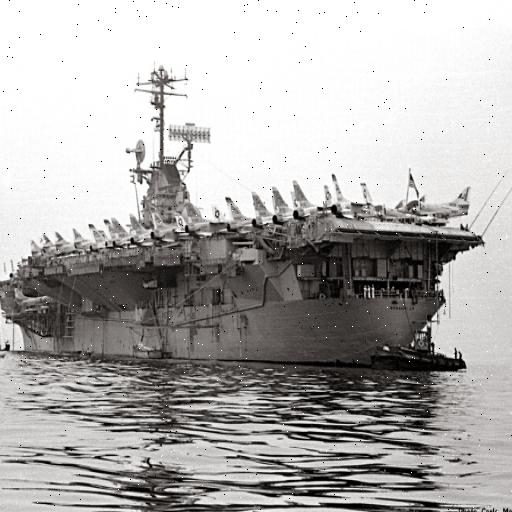Portanaves: (1, 48, 488, 383)
